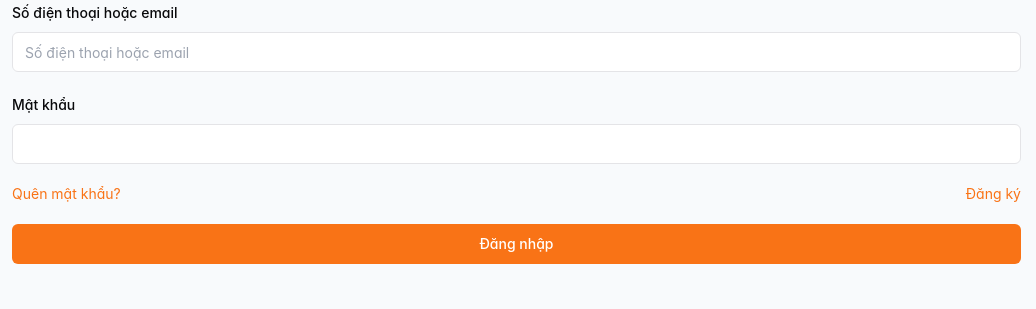
Test: auth forms › shows the required login identifier inline and clears it when filled
In the field labelled "Số điện thoại hoặc email": (516, 52) 12,32 -> 1021,72, type "0"
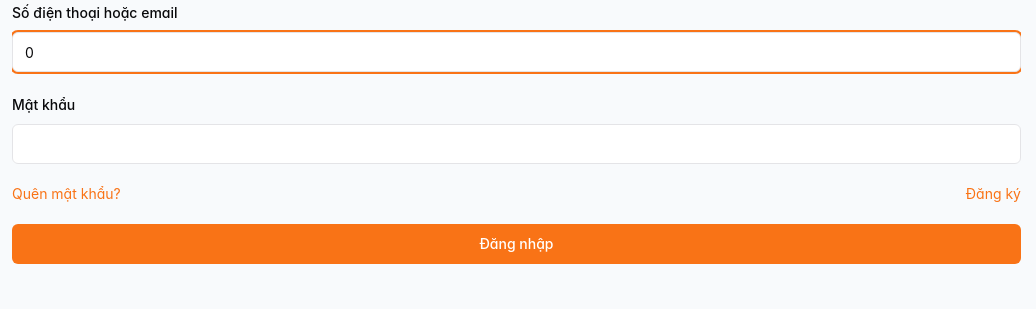
Clear the field labelled "Số điện thoại hoặc email": (516, 52) 12,32 -> 1021,72
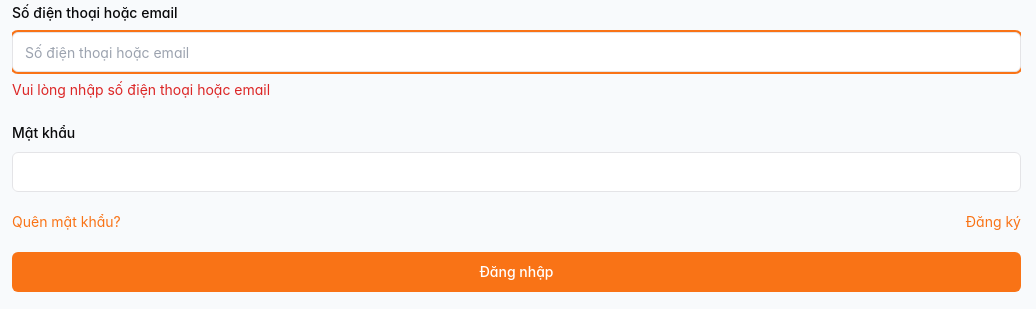
Expected: the text "Vui lòng nhập số điện thoại hoặc email" is shown, 12,81 -> 270,98
In the field labelled "Số điện thoại hoặc email": (516, 52) 12,32 -> 1021,72, type "0903026306"
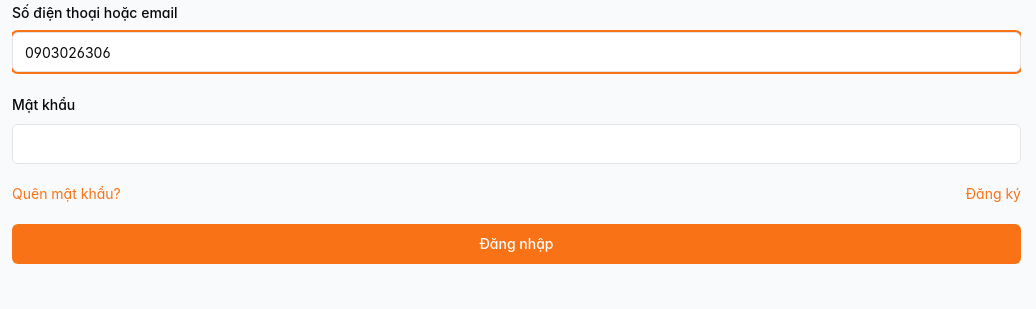
Expected: the text "Vui lòng nhập số điện thoại hoặc email" is gone
